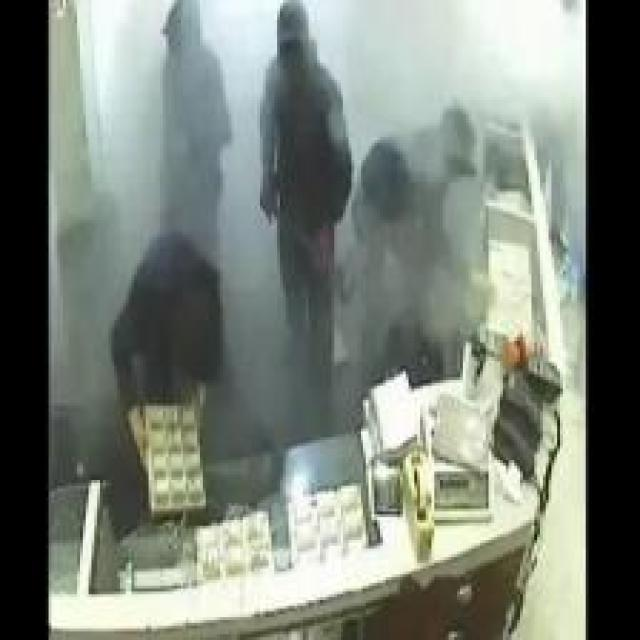fire: (346, 0, 583, 154), (336, 216, 498, 370)
